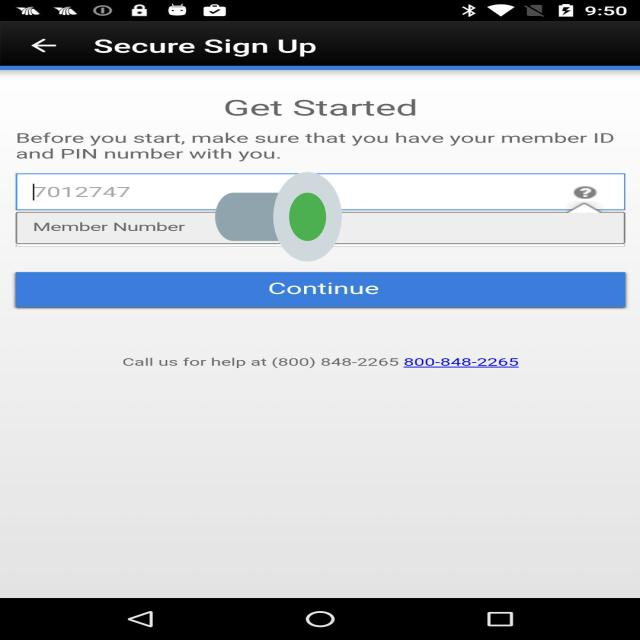social proof: (215, 134, 342, 300)
